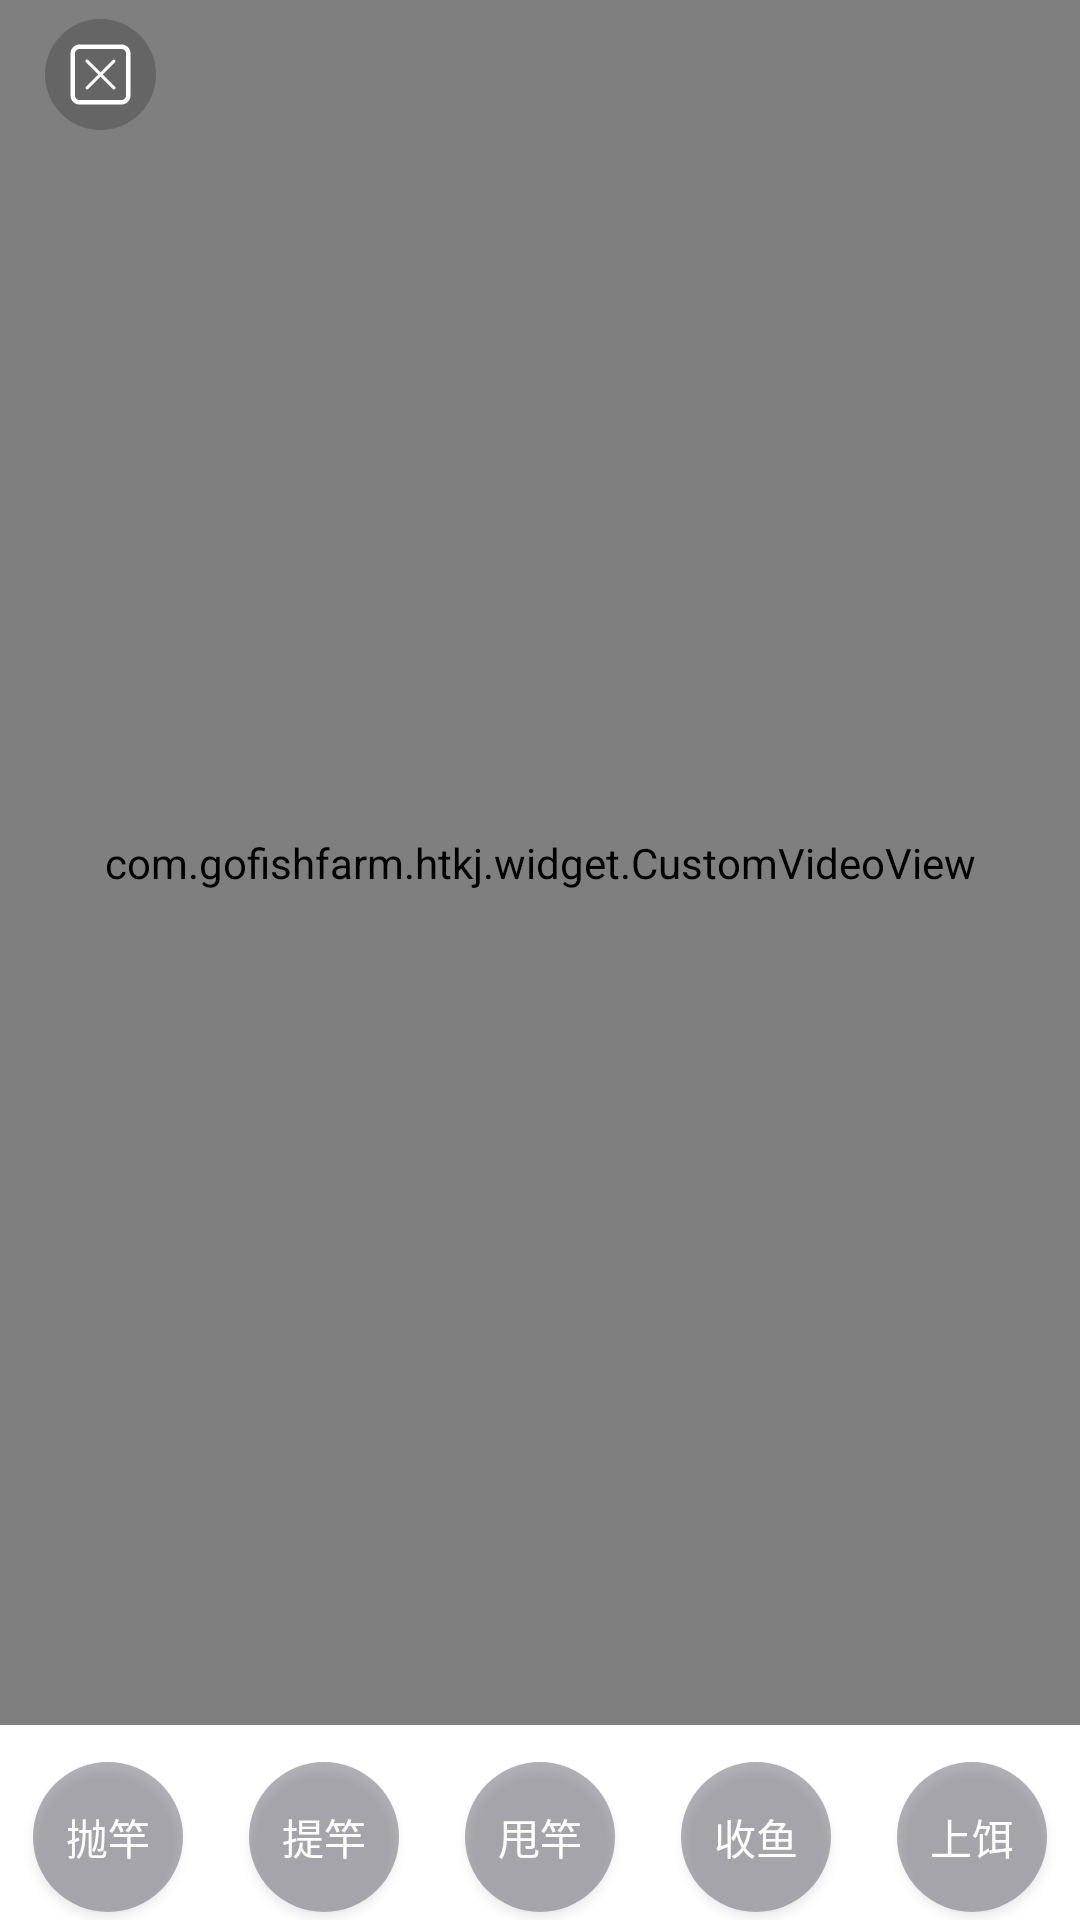

Named icons in this screenshot (1080x1920) and their centers, [x,y]:
live shutdown: [100,74]
